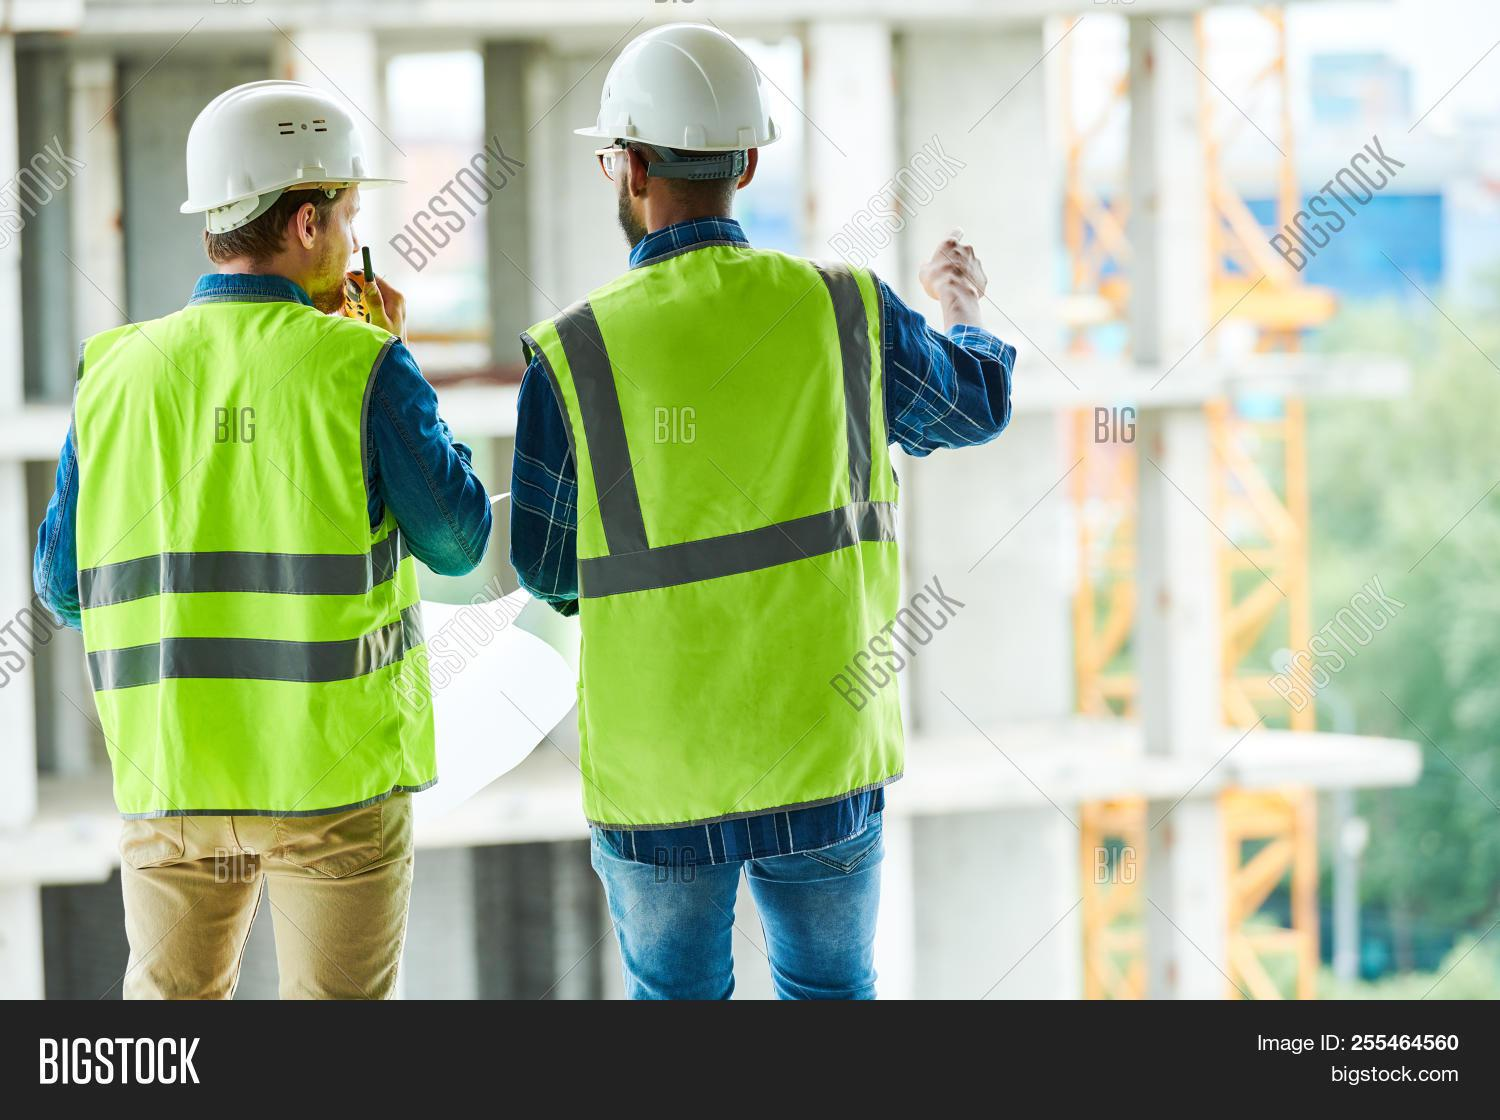hardhat: (171, 78, 407, 221), (571, 24, 791, 150)
worker: (512, 22, 1021, 995), (26, 76, 495, 998)
